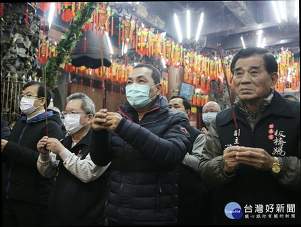with_mask: (125, 73, 158, 108), (63, 106, 88, 134), (18, 90, 42, 116), (202, 106, 219, 125)
without_mask: (232, 64, 275, 102)
